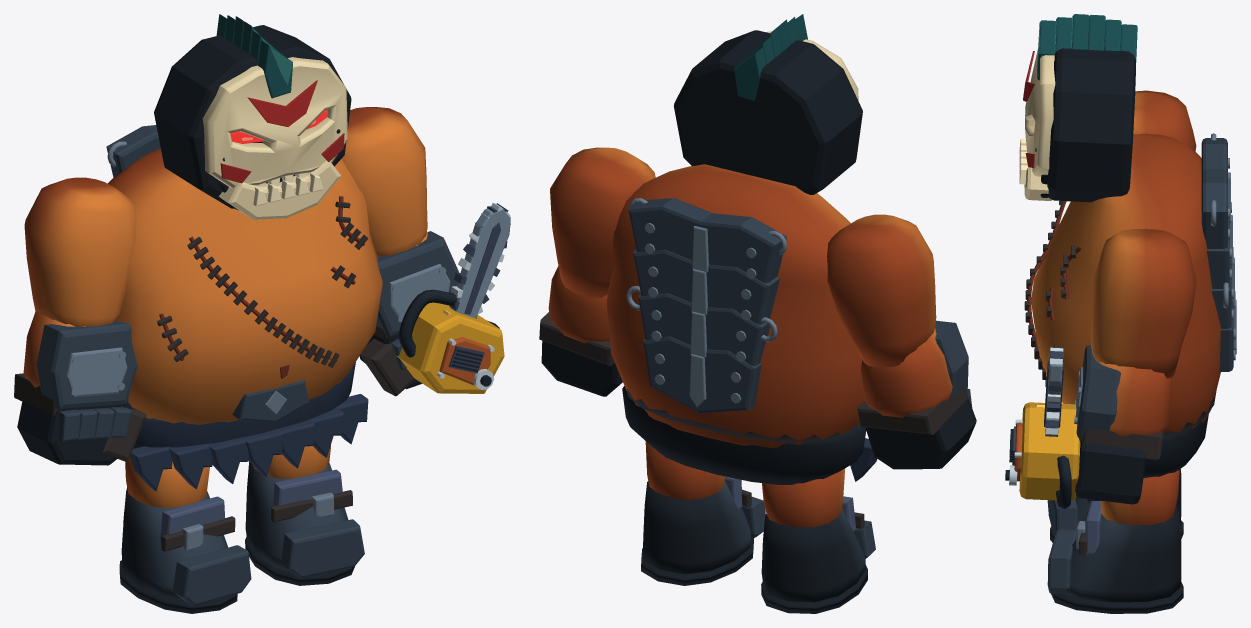
File: butcher-hero-astra6.glb
The picture shows the model from 3 angles, left to right: view 1: azimuth 30°, elevation 25°; view 2: azimuth 150°, elevation 25°; view 3: azimuth 270°, elevation 25°; orthographic projection. The views are drawn at different scales.
Parts seen in each view (by area): view 1: Continuous massive stitched torso, Sculpted deltoid and upper arm (×2), Legendary chainsaw | held right hand, Cast bone hockey faceplate, Dark helmet understructure, Heavy squared leather boot (×2), Combat bracer front (×2), Ragged cloth hem, Boot iron toe guard (×2), Heavy navy torn shorts, Bracer bright inset (×2), Short powerful leg (×2) (+16 smaller); view 2: Continuous massive stitched torso, Sculpted deltoid and upper arm (×2), Overlapping beveled spine plates, Dark helmet understructure, Heavy squared leather boot (×2), Heavy navy torn shorts, Massive tapered forearm (×2), Solid leather clenched fist (×2), Short powerful leg (×2), Wrist dark wrap (×2), Broad tread sole (×2), Steel vertebrae ridges (+6 smaller); view 3: Continuous massive stitched torso, Sculpted deltoid and upper arm (×2), Dark helmet understructure, Heavy squared leather boot (×2), Legendary chainsaw | held right hand, Overlapping beveled spine plates, Solid leather clenched fist, Massive tapered forearm, Heavy dark teal mohawk blades, Cast bone hockey faceplate, Combat bracer front, Short powerful leg (+11 smaller).
Part boxes in pixels (x1,y1,x2,y2): Continuous massive stitched torso: (108,148,382,424); Sculpted deltoid and upper arm (×2): (24,107,427,326); Legendary chainsaw | held right hand: (396,203,510,393); Cast bone hockey faceplate: (202,57,347,187); Dark helmet understructure: (154,25,351,208); Heavy squared leather boot (×2): (121,461,348,600); Combat bracer front (×2): (36,231,459,408); Ragged cloth hem: (130,394,368,491); Boot iron toe guard (×2): (173,519,364,605); Heavy navy torn shorts: (133,362,355,461); Bracer bright inset (×2): (66,264,450,397); Short powerful leg (×2): (125,445,330,508); Continuous massive stitched torso: (606,164,865,447); Sculpted deltoid and upper arm (×2): (550,147,936,367); Overlapping beveled spine plates: (628,198,786,413); Dark helmet understructure: (674,30,862,194); Heavy squared leather boot (×2): (643,481,865,602); Heavy navy torn shorts: (622,386,866,484); Massive tapered forearm (×2): (548,266,952,417); Solid leather clenched fist (×2): (541,341,976,469); Short powerful leg (×2): (645,441,845,527); Wrist dark wrap (×2): (539,312,967,434); Broad tread sole (×2): (641,538,867,613); Steel vertebrae ridges: (689,226,708,407); Continuous massive stitched torso: (1031,133,1221,434); Sculpted deltoid and upper arm (×2): (1091,90,1196,378); Dark helmet understructure: (1047,48,1135,202); Heavy squared leather boot (×2): (1065,469,1181,602); Legendary chainsaw | held right hand: (1005,347,1080,508); Overlapping beveled spine plates: (1201,138,1233,371); Solid leather clenched fist: (1075,440,1145,504); Massive tapered forearm: (1095,359,1171,436); Heavy dark teal mohawk blades: (1037,14,1137,80); Cast bone hockey faceplate: (1025,48,1055,176); Combat bracer front: (1076,345,1120,442); Short powerful leg: (1100,470,1179,525).
Size of the model in its own units: 4.03 by 4.85 by 1.86.
